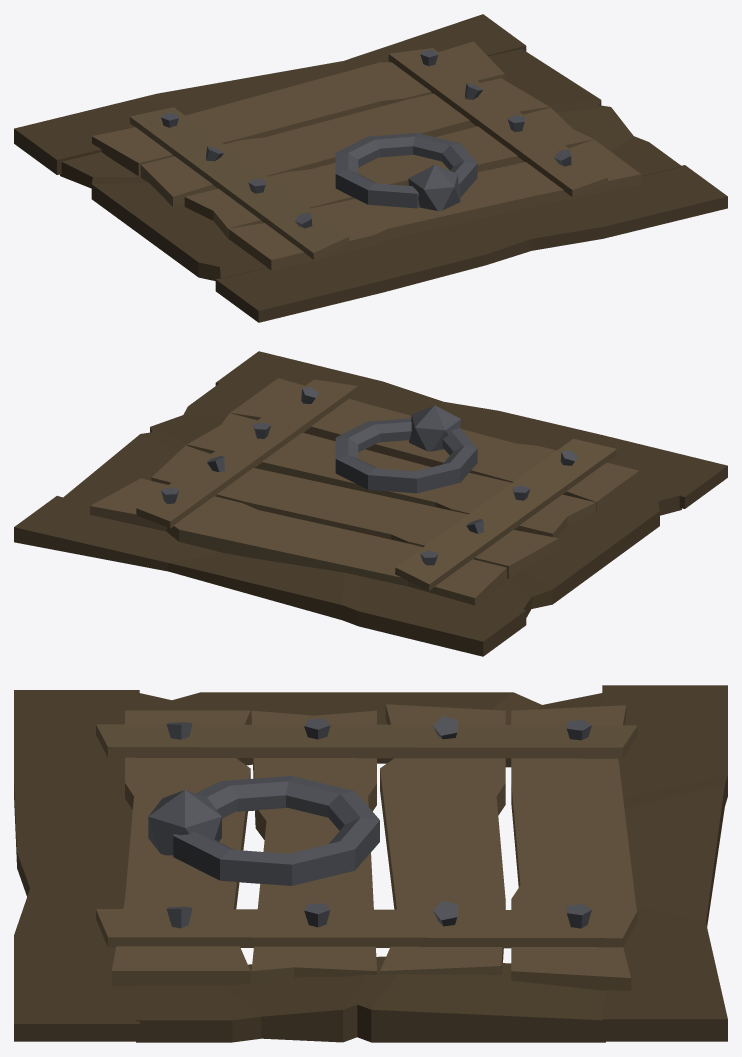
The model's file is Trapdoor.glb.
3 views of the same model, one above another, from view 1: azimuth 30°, elevation 25°; view 2: azimuth 150°, elevation 25°; view 3: azimuth 270°, elevation 25° (orthographic). The views are drawn at different scales.
Parts seen in each view (by area): view 1: Trapdoor; view 2: Trapdoor; view 3: Trapdoor.
Part boxes in pixels (box(x1,y1,x2,y2)): Trapdoor: box(14, 14, 727, 322); Trapdoor: box(14, 351, 727, 656); Trapdoor: box(14, 685, 727, 1042).
Bounding box in the file's own units: 1.74 × 0.2152 × 1.57.
